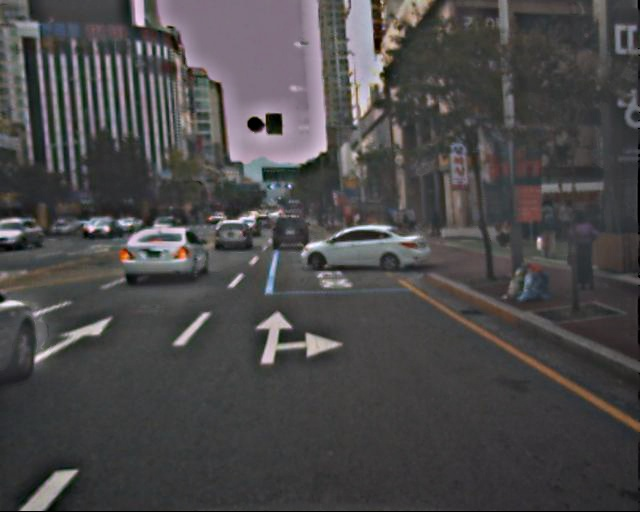person: (564, 208, 599, 294), (533, 197, 558, 259), (430, 210, 441, 238), (406, 205, 417, 232)
